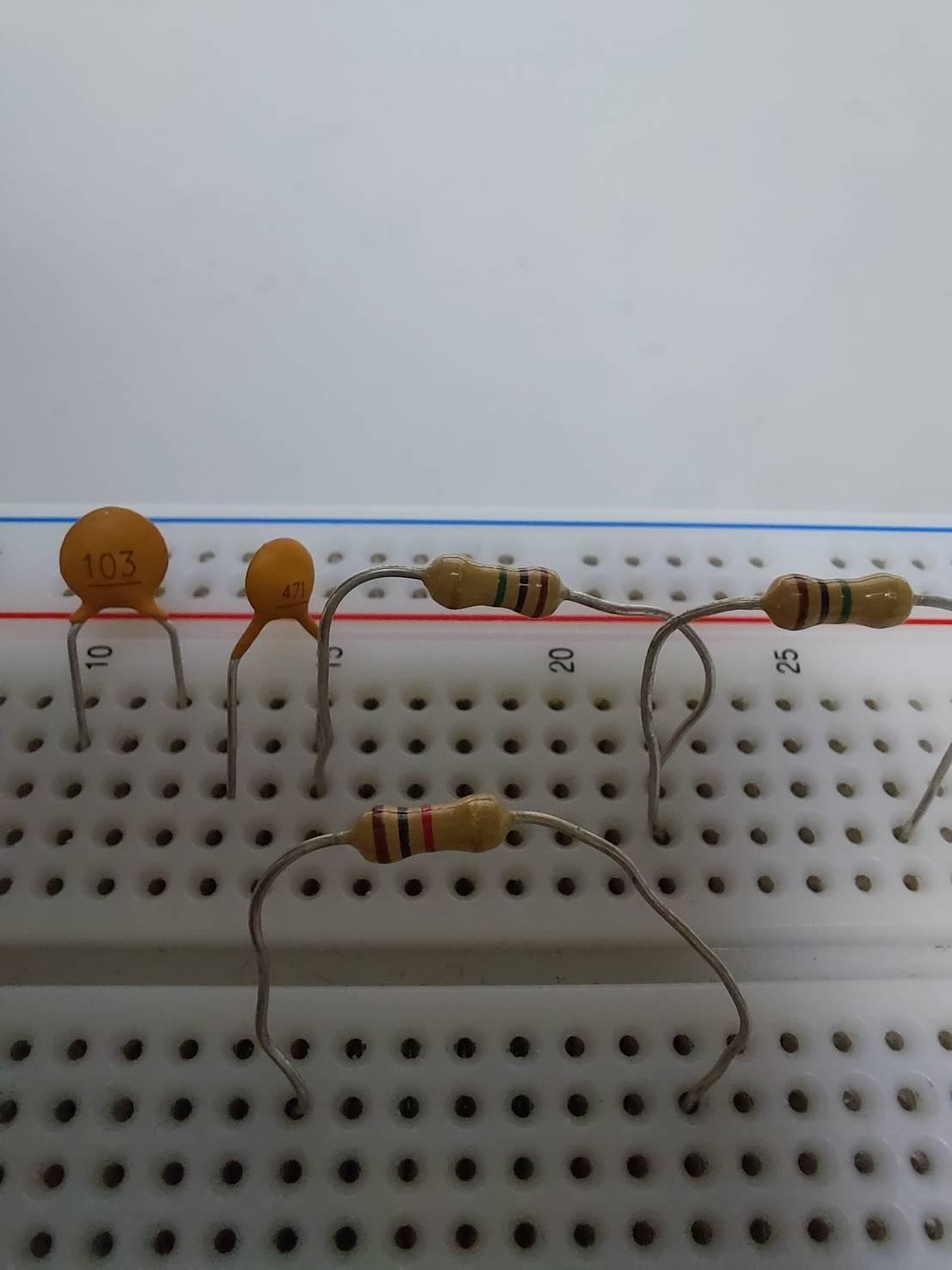resistor: (765, 566, 917, 635), (349, 795, 512, 859), (425, 550, 563, 625)
